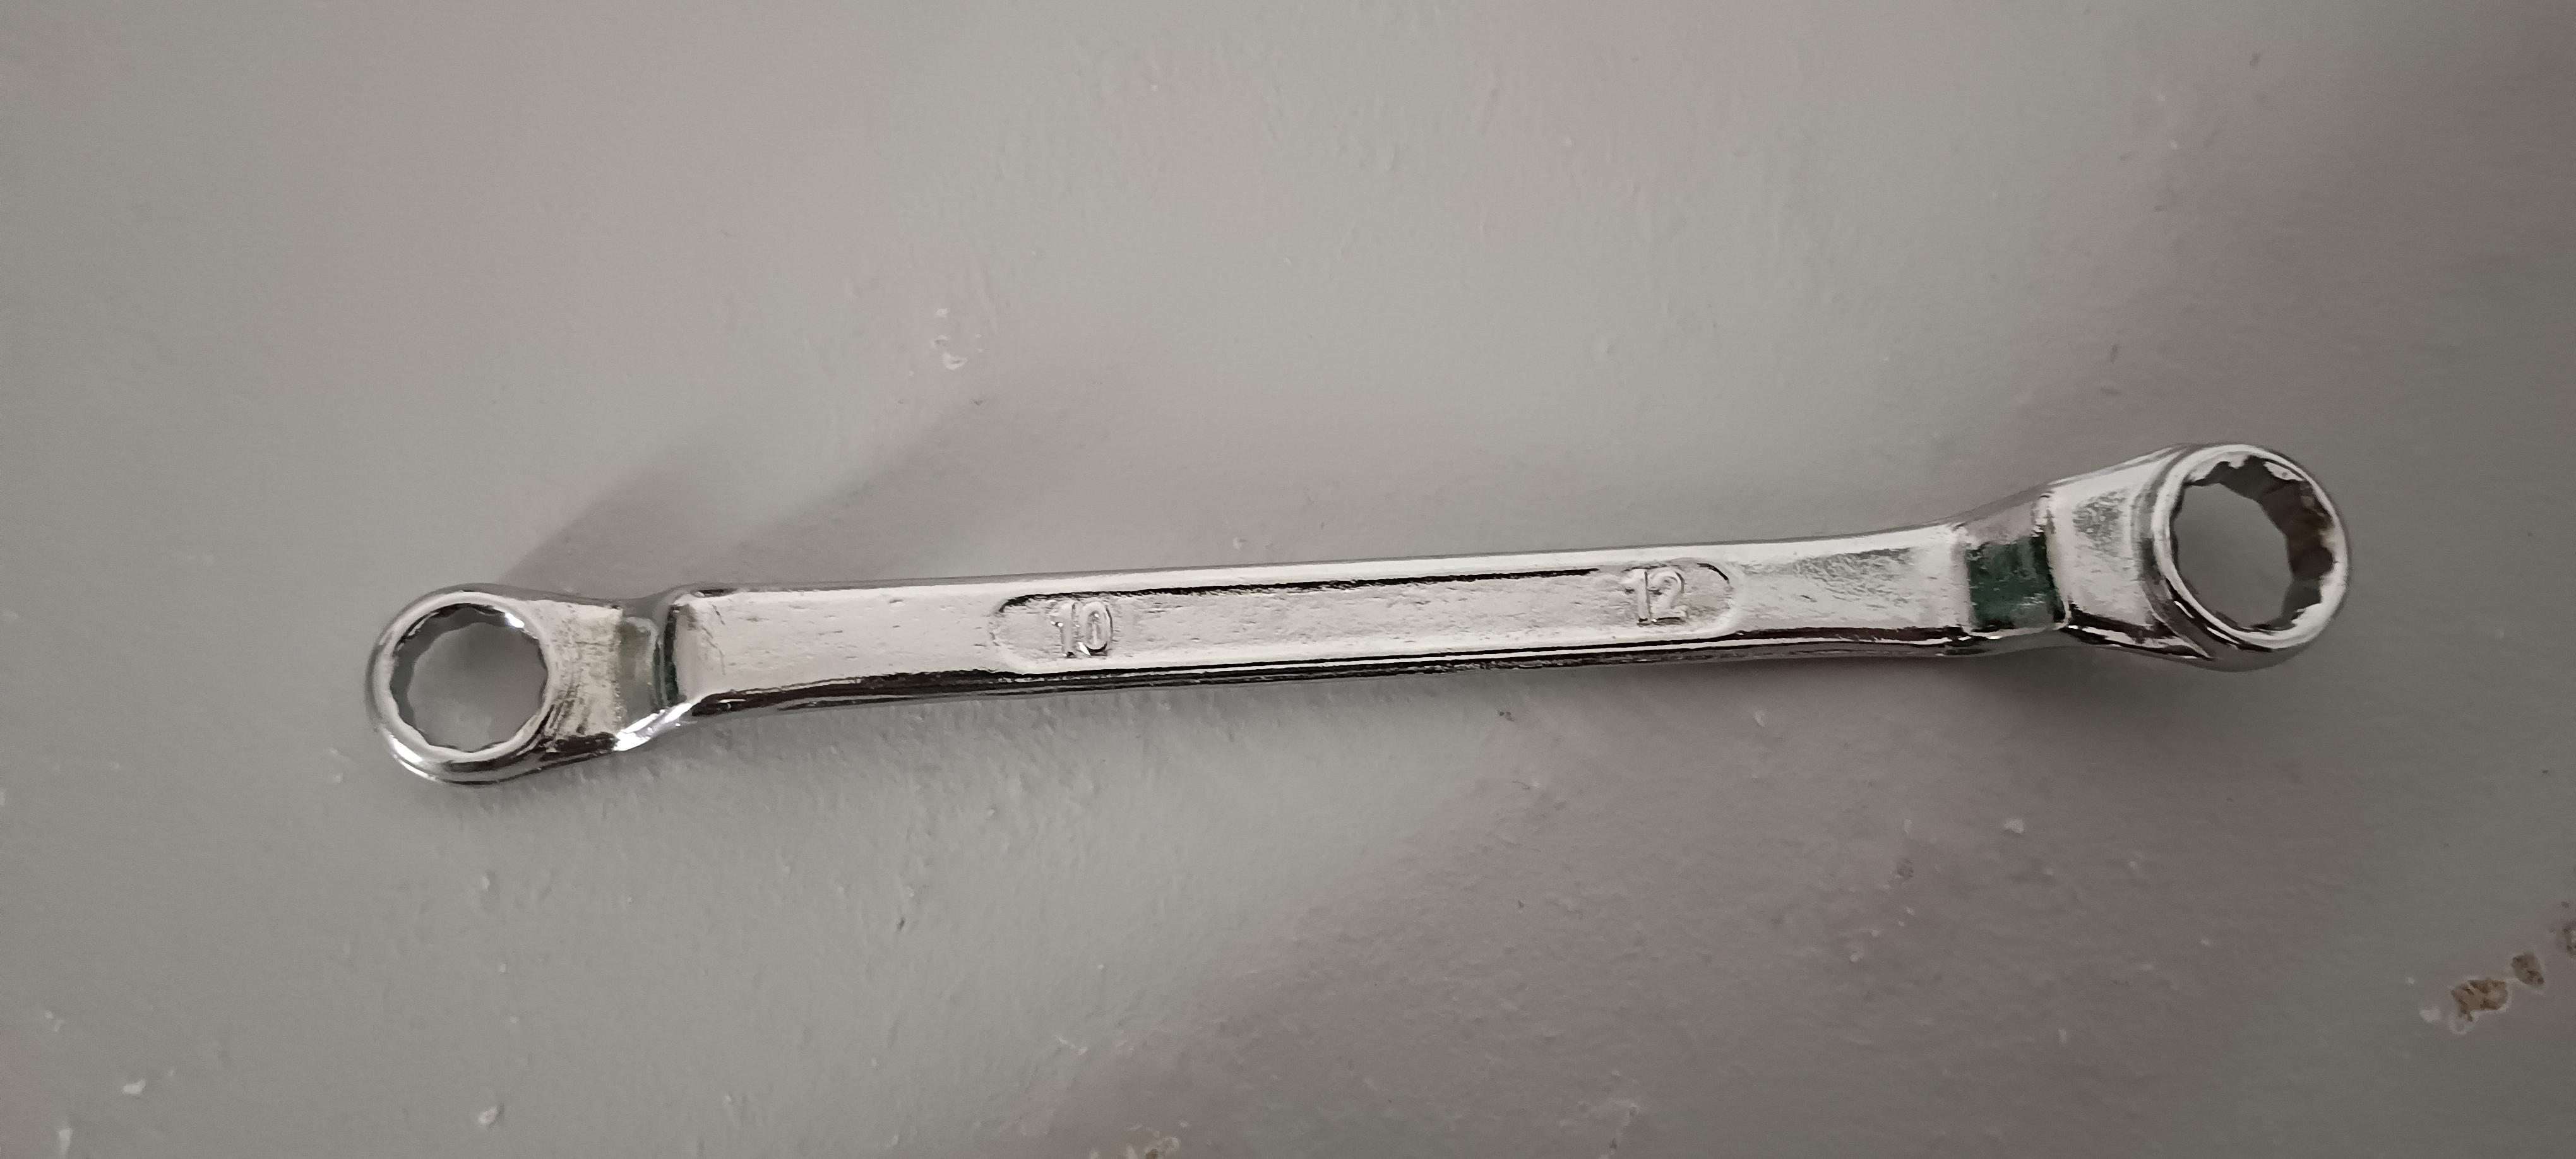Spanners: (325, 379, 2425, 871)
